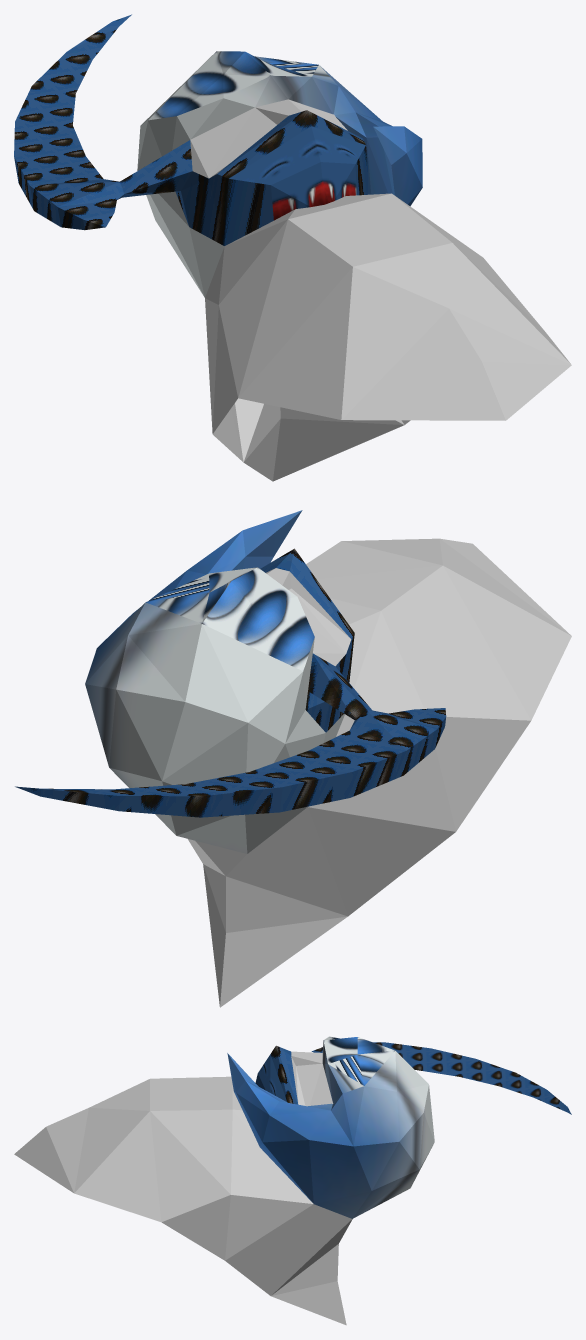
Rendered from BR_Absol-Shiny01.obj.
3 renders of one model, top to bottom at view 1: azimuth 30°, elevation 25°; view 2: azimuth 150°, elevation 25°; view 3: azimuth 270°, elevation 25°, orthographic. The views are drawn at different scales.
Parts seen in each view (by area): view 1: absol; view 2: absol; view 3: absol.
Boxes of the visible parts, left/top/right/bottom form: absol: left=14, top=14, right=571, bottom=481; absol: left=15, top=510, right=571, bottom=1007; absol: left=14, top=1036, right=571, bottom=1325.
Size of the model in its own units: 4.88 by 5.78 by 10.36.
